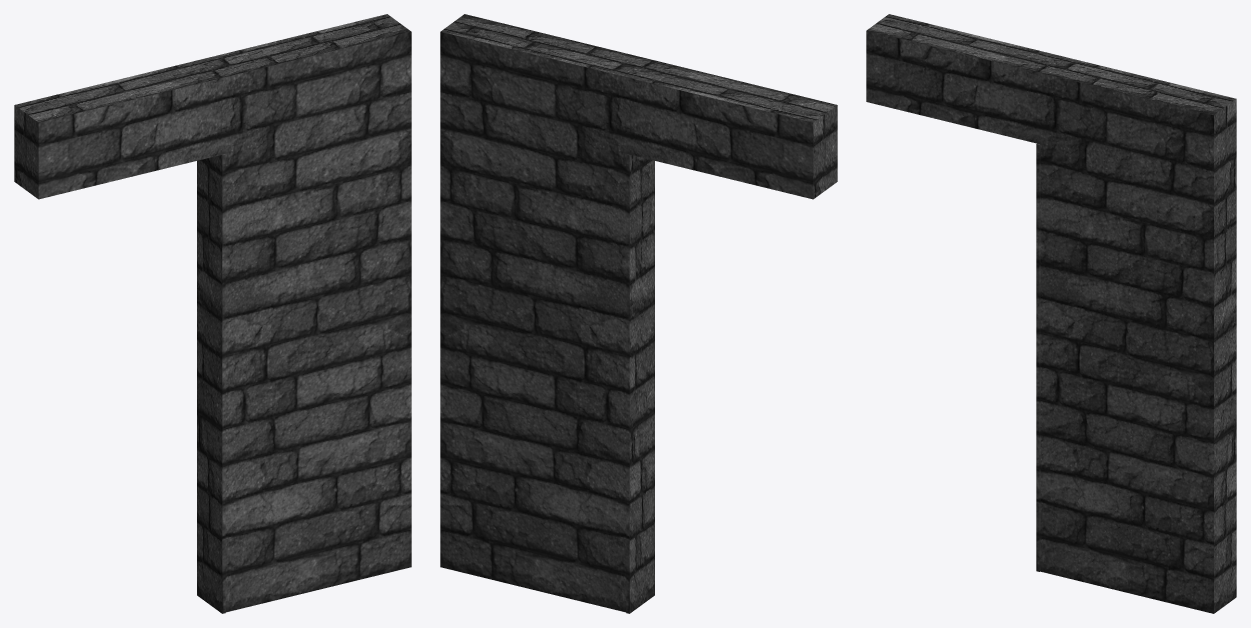
The model's file is wall door slot v6 stone open-side.glb.
The picture shows the model from 3 angles, left to right: view 1: azimuth 30°, elevation 25°; view 2: azimuth 150°, elevation 25°; view 3: azimuth 330°, elevation 25°; orthographic projection. The views are drawn at different scales.
Parts seen in each view (by area): view 1: mesh_wall_door_slot_v6_stone_open_side, mesh_wall_door_slot_v6_stone_open_side_reveal; view 2: mesh_wall_door_slot_v6_stone_open_side, mesh_wall_door_slot_v6_stone_open_side_reveal; view 3: mesh_wall_door_slot_v6_stone_open_side, mesh_wall_door_slot_v6_stone_open_side_reveal.
Part boxes in pixels (box(x1,y1,x2,y2)): mesh_wall_door_slot_v6_stone_open_side: box(14, 14, 411, 612); mesh_wall_door_slot_v6_stone_open_side_reveal: box(197, 154, 225, 613); mesh_wall_door_slot_v6_stone_open_side: box(440, 14, 837, 612); mesh_wall_door_slot_v6_stone_open_side_reveal: box(626, 154, 654, 613); mesh_wall_door_slot_v6_stone_open_side: box(866, 14, 1236, 613); mesh_wall_door_slot_v6_stone_open_side_reveal: box(1036, 143, 1040, 571).
Size of the model in its own units: 2 by 2.74 by 0.237.
Materials: 1 (1 with a texture image).
